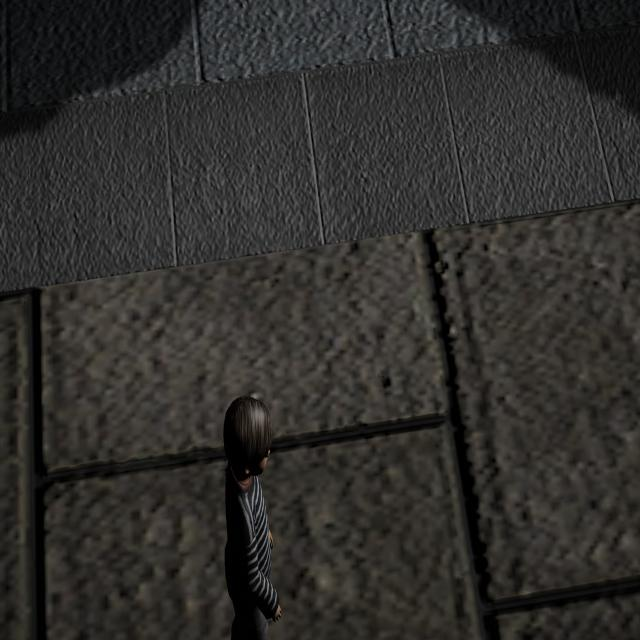Human: (208, 393, 286, 640)
